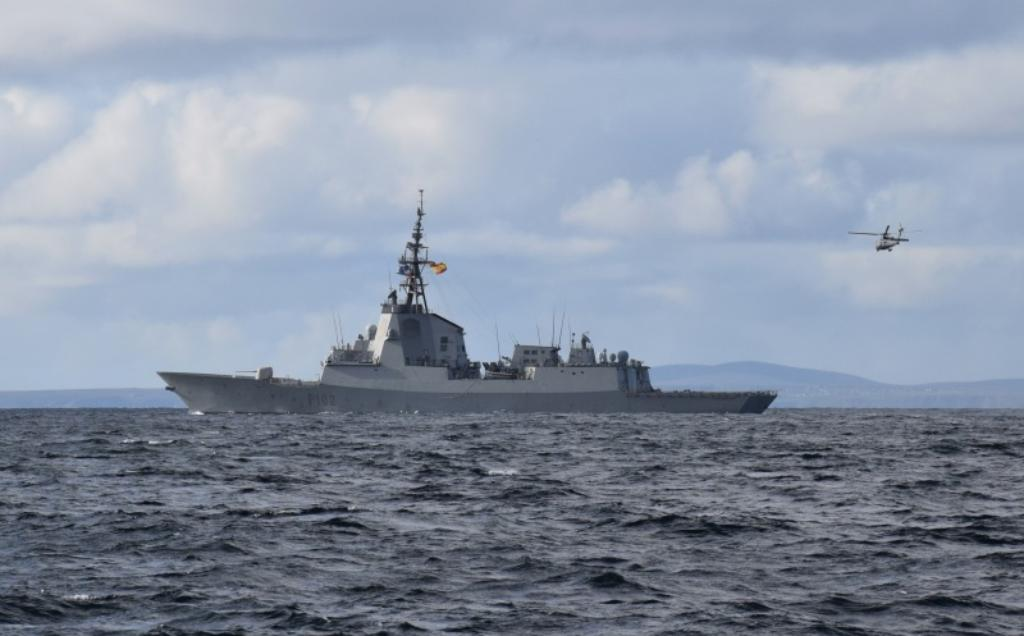Warship: (150, 184, 782, 416)
